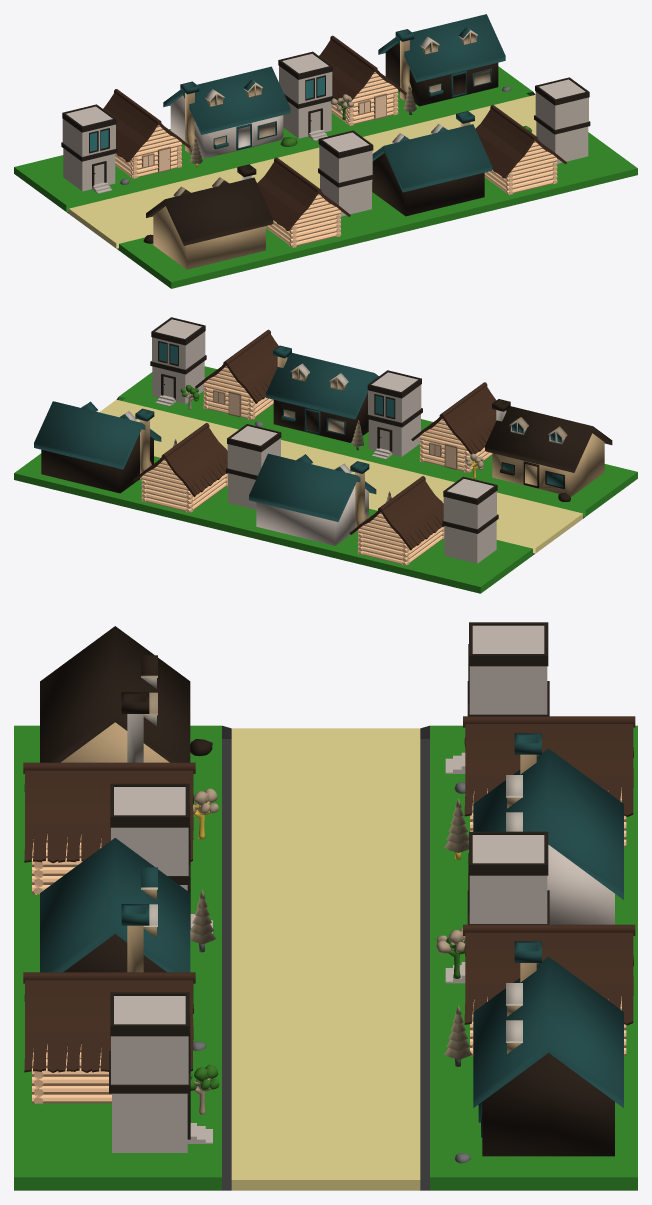
The model's file is rumah kayuFIX2.fbx.
3 views of the same model, one above another, from view 1: azimuth 30°, elevation 25°; view 2: azimuth 150°, elevation 25°; view 3: azimuth 270°, elevation 25° (orthographic). The views are drawn at different scales.
Parts seen in each view (by area): view 1: Cube.000; view 2: Cube.000; view 3: Cube.000.
Boxes of the visible parts, <box> form: Cube.000: <box>14,14,637,288</box>; Cube.000: <box>14,317,637,593</box>; Cube.000: <box>14,622,637,1190</box>.
Size of the model in its own units: 7841 by 1162 by 4579.
